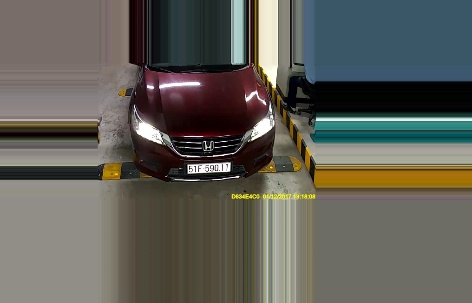plate: (185, 159, 236, 174)
